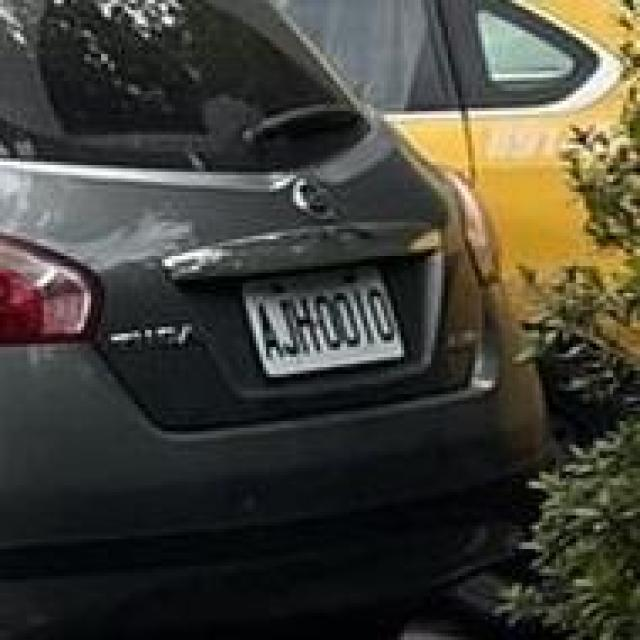W: (232, 253, 414, 387)
